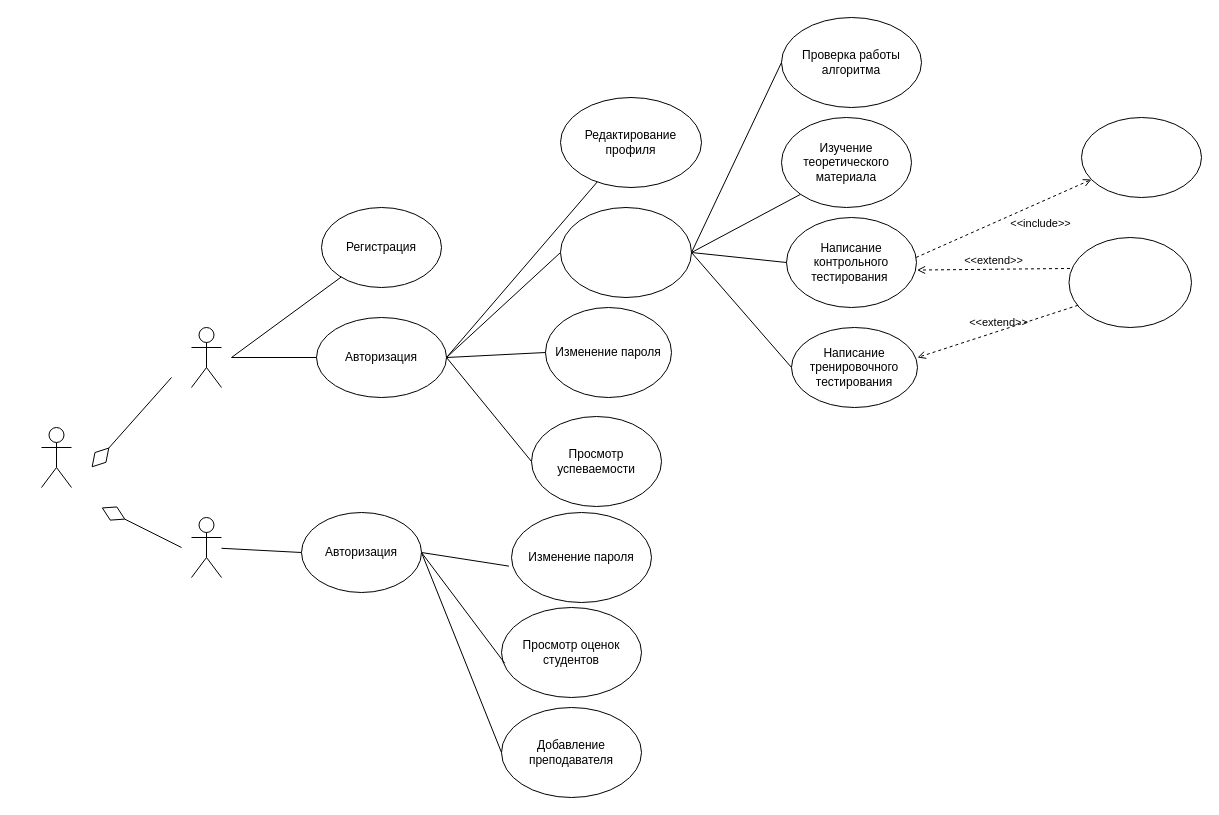
Image size: 1219x815. Some labels were removed from this diagram. The shapes that lost their labels are listed below. From the top down, each one's centre as x and y in pixels, then its label:
At point (1141, 157): "Получение оценки".
At point (626, 252): "Выбор темы".
At point (1130, 282): "Получение правильного решения".
At point (206, 357): "Студент".
At point (56, 457): "Пользователь".
At point (206, 547): "Преподаватель".
